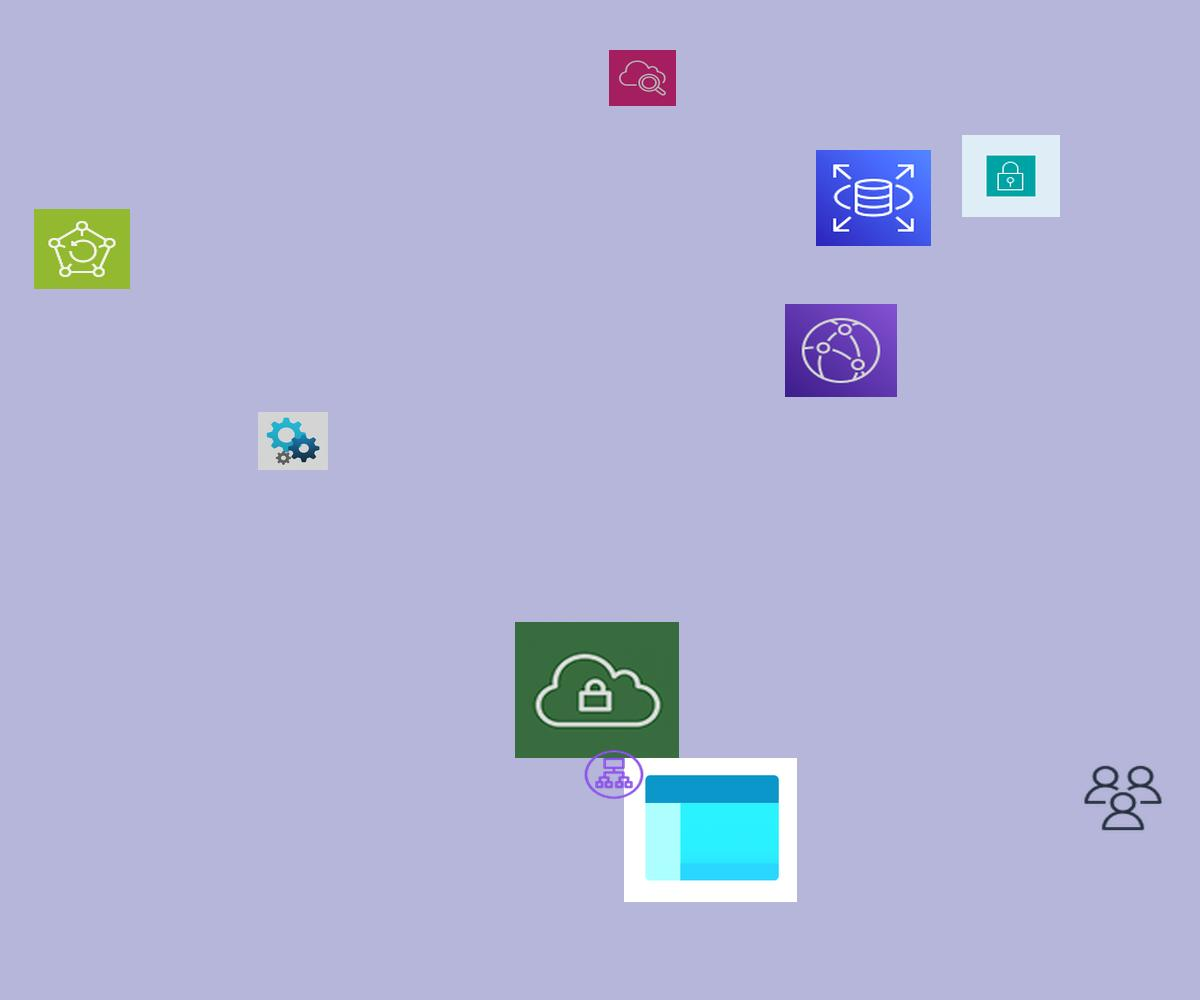AWS-Backup: (34, 209, 130, 289)
AWS-CloudFront: (785, 304, 897, 397)
AWS-CloudWatch: (609, 50, 676, 106)
AWS-Private-subnet: (962, 135, 1060, 217)
AWS-Private_vpc: (515, 622, 679, 758)
AWS-RDS: (816, 150, 931, 246)
AWS-Res_Elastic-Load-Balancing_Application-Load-Balancer: (582, 748, 646, 801)
AWS-Res_Users: (1081, 763, 1165, 833)
Azure_api: (258, 412, 328, 470)
Azure_management-portal: (624, 758, 797, 902)
